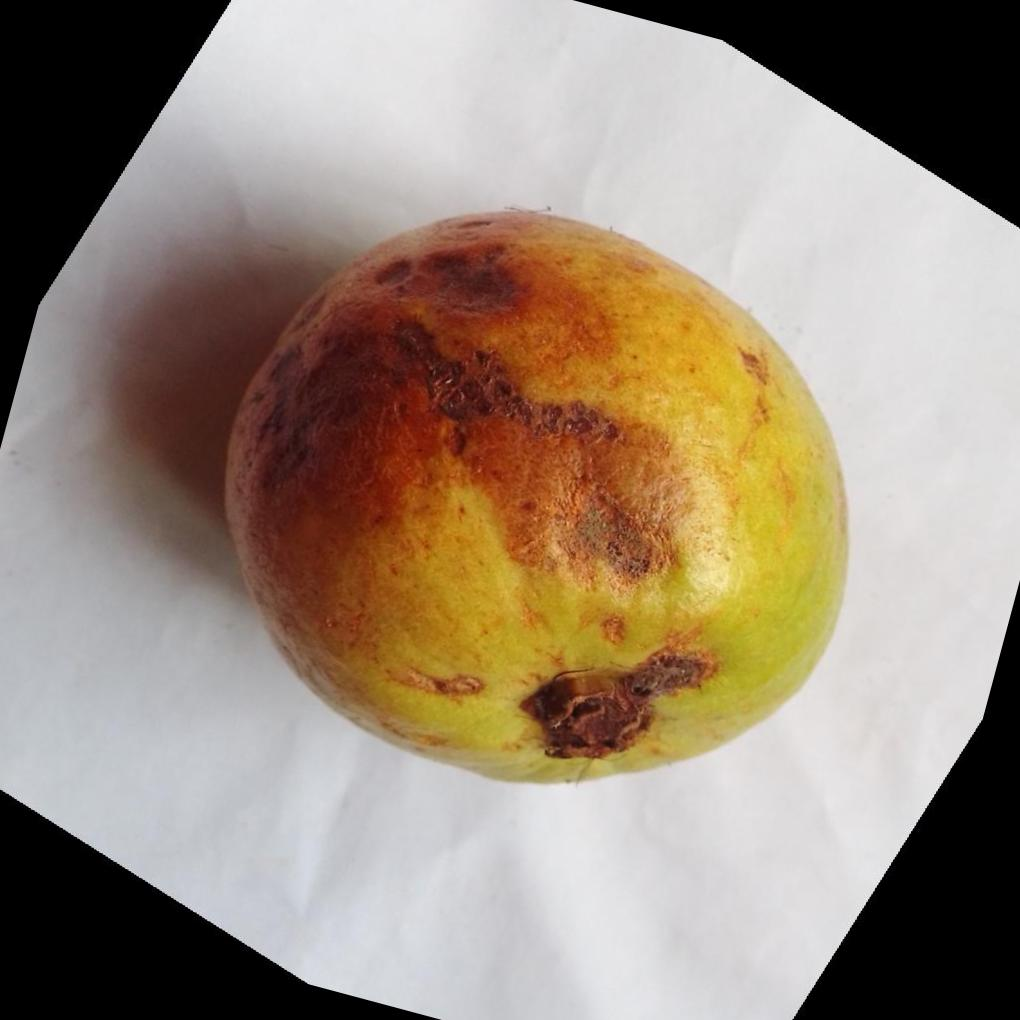FreshOrange: (221, 201, 851, 783)
